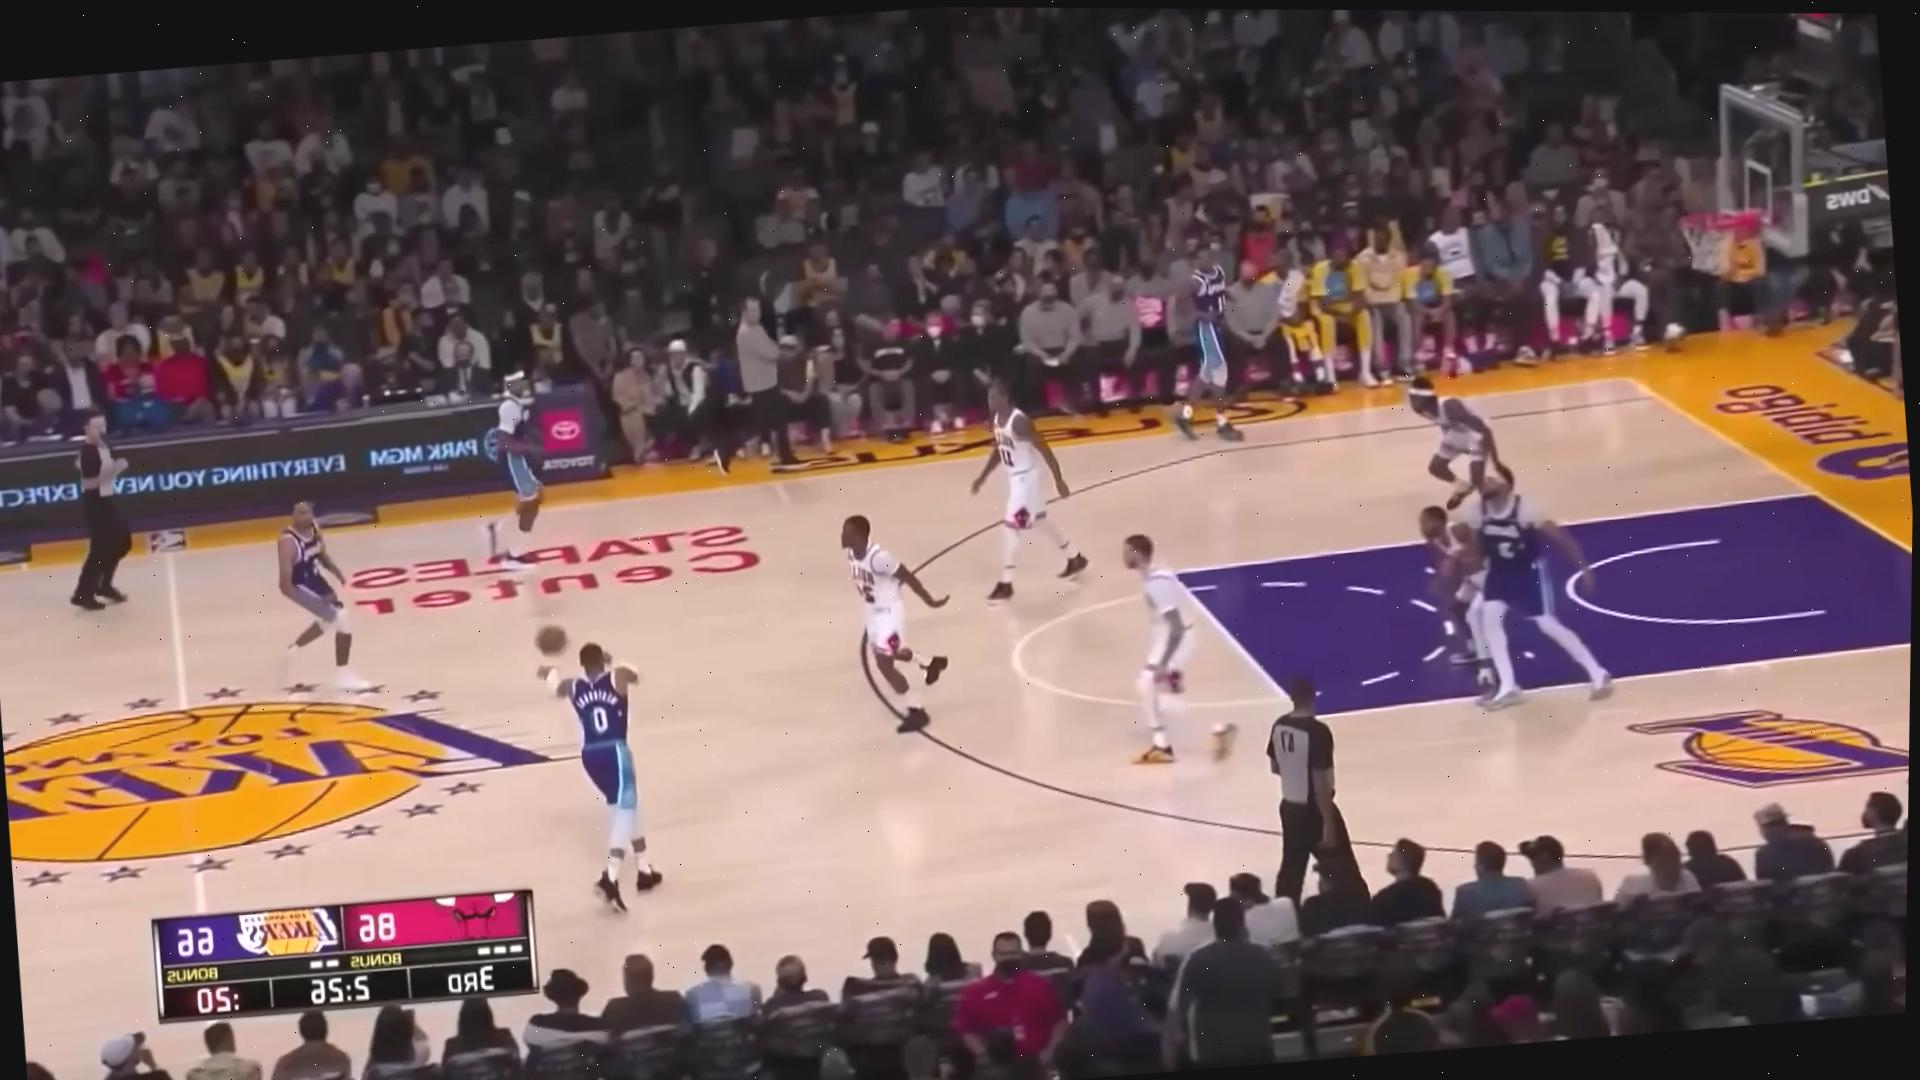foul: (1404, 458, 1617, 708)
